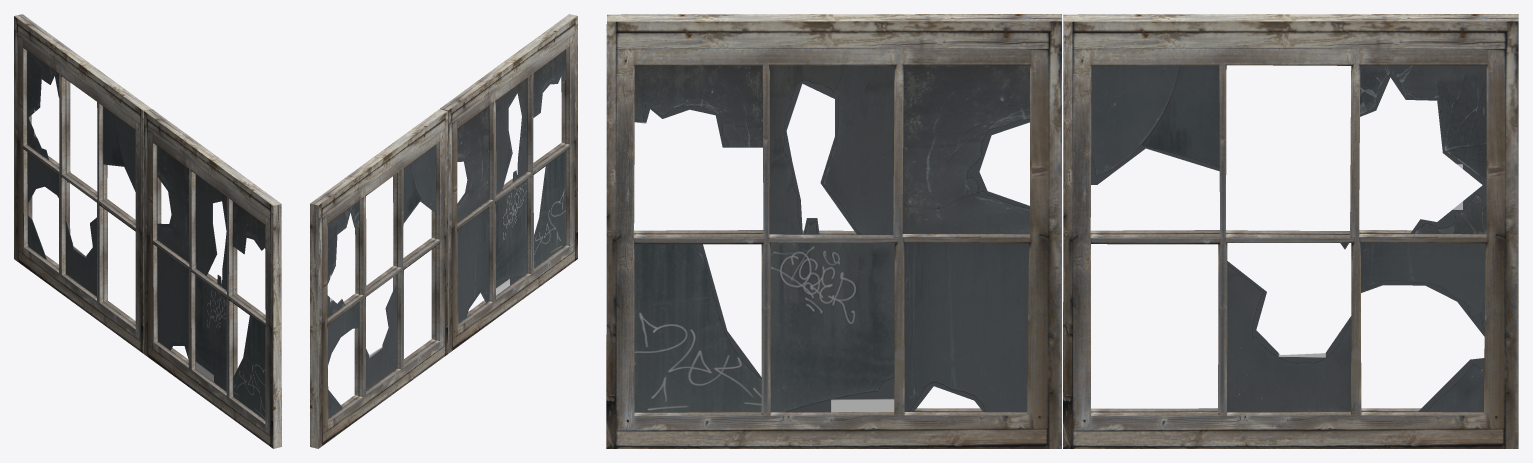
File: Windows_Porch_04.fbx
3 views of the same model, side by side, from view 1: azimuth 30°, elevation 25°; view 2: azimuth 150°, elevation 25°; view 3: azimuth 270°, elevation 25° (orthographic). The views are drawn at different scales.
Visible parts, largest first — view 1: Windows_Porch_04, Windows_Porch_04glass (×11); view 2: Windows_Porch_04, Windows_Porch_04glass (×10); view 3: Windows_Porch_04, Windows_Porch_04glass (×11).
Boxes of the visible parts, x1,y1,x2,y2 form: Windows_Porch_04: (14,14,281,448); Windows_Porch_04glass (×11): (27,51,265,419); Windows_Porch_04: (310,14,577,448); Windows_Porch_04glass (×10): (327,50,565,390); Windows_Porch_04: (606,14,1518,448); Windows_Porch_04glass (×11): (634,65,1486,412).
Bounding box in the file's own units: 4.9 × 260 × 135.
2 materials, 2 textured.
